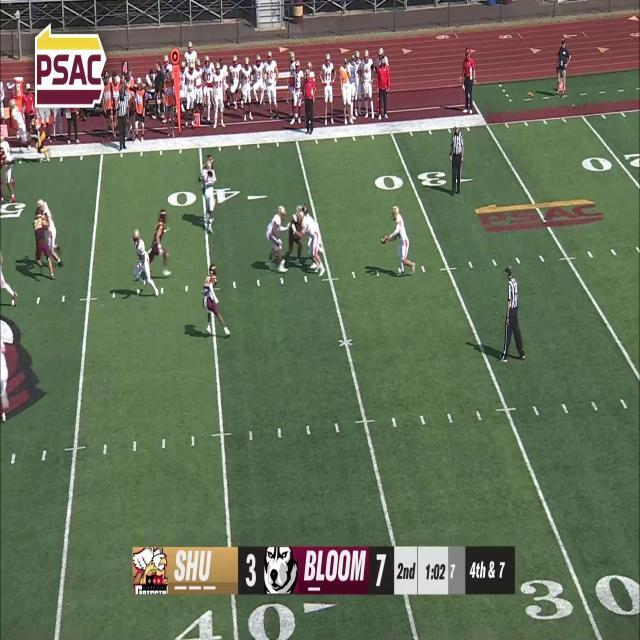football: (381, 235, 387, 244)
